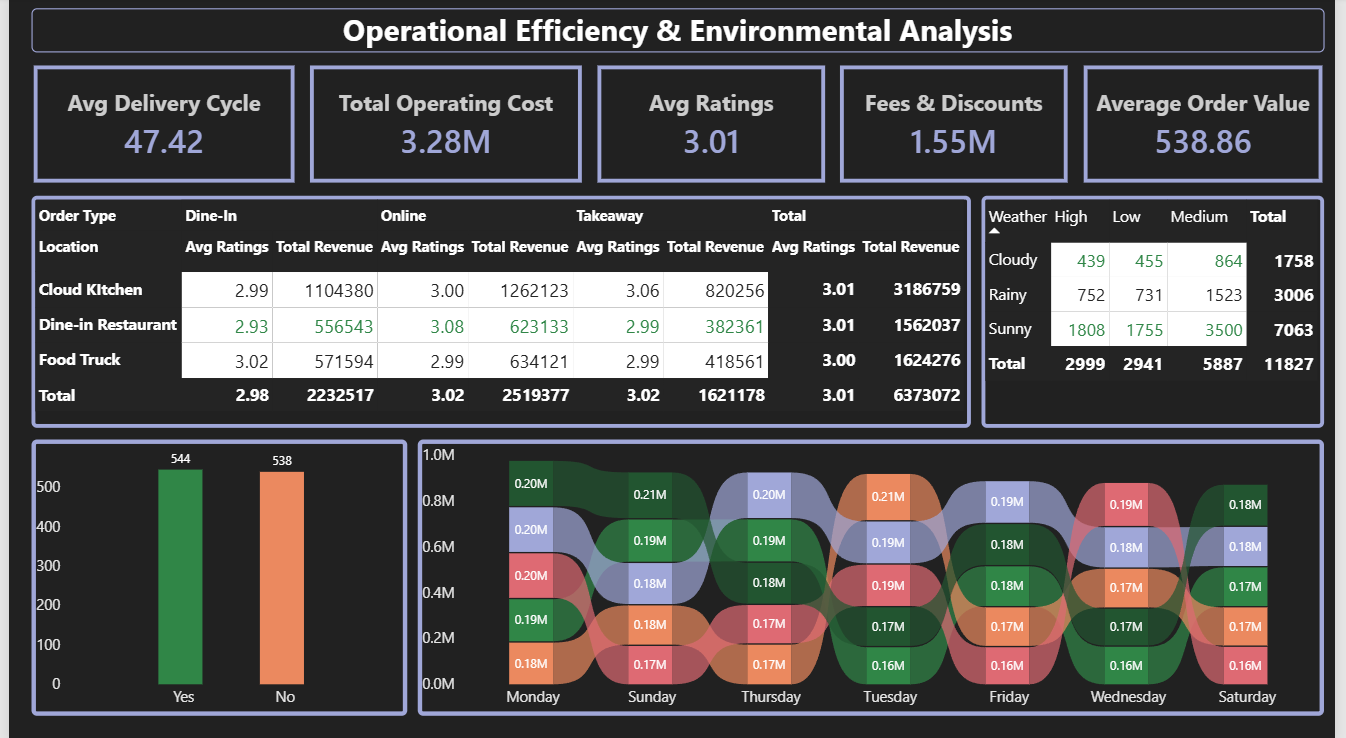

What the dashboard file says about the page in this screenshot:
{"tool":"powerbi","page":{"name":"Operational efficiency","canvas":[1920,1080],"ordinal":1},"visuals":[{"type":"cardVisual","fields":{"Data":["Table1.Avg Total Delivery Cycle"]},"box":[32,96,384,176],"z":0},{"type":"cardVisual","fields":{"Data":["Table1.Fees & Discounts"]},"box":[1200,96,336,176],"z":1000},{"type":"cardVisual","fields":{"Data":["Table1.Avg Ratings"]},"box":[848,96,336,176],"z":2000},{"type":"cardVisual","fields":{"Data":["Table1.Total Operating Cost"]},"box":[432,96,400,176],"z":3000},{"type":"pivotTable","fields":{"Rows":["Table1.Location"],"Columns":["Table1.Order Type"],"Values":["Table1.Avg Ratings","Table1.Total Revenue"]},"box":[32,288,1360,336],"z":4000},{"type":"pivotTable","fields":{"Rows":["Table1.Weather"],"Columns":["Table1.Demand_Index"],"Values":["Table1.Total Orders"]},"box":[1408,288,496,336],"z":5000},{"type":"clusteredColumnChart","fields":{"Category":["Table1.Festival_Day"],"Y":["Table1.Average Order Value"]},"box":[32,640,544,400],"z":6000},{"type":"ribbonChart","fields":{"Category":["Table1.Day"],"Y":["Table1.Total Revenue"],"Series":["Table1.Food Item"]},"box":[592,640,1312,400],"z":7000},{"type":"textbox","box":[32,16,1872,64],"z":8000},{"type":"cardVisual","fields":{"Data":["Table1.Average Order Value"]},"box":[1552,96,352,176],"z":9000}]}

Visuals, with their boxes in screenshot pixels (x1, y1, x2, y2), scaled from the page's 1920x1080 canvas onto the 1346x738 screenshot:
cardVisual - Table1.Avg Total Delivery Cycle: region(22, 66, 292, 186)
cardVisual - Table1.Fees & Discounts: region(841, 66, 1077, 186)
cardVisual - Table1.Avg Ratings: region(594, 66, 830, 186)
cardVisual - Table1.Total Operating Cost: region(303, 66, 583, 186)
pivotTable - Table1.Location x Table1.Order Type: region(22, 197, 976, 426)
pivotTable - Table1.Weather x Table1.Demand_Index: region(987, 197, 1335, 426)
clusteredColumnChart - Table1.Festival_Day x Table1.Average Order Value: region(22, 437, 404, 711)
ribbonChart - Table1.Day x Table1.Total Revenue: region(415, 437, 1335, 711)
textbox: region(22, 11, 1335, 55)
cardVisual - Table1.Average Order Value: region(1088, 66, 1335, 186)
